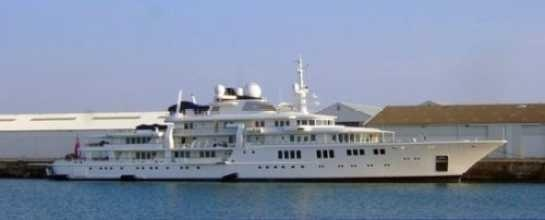yacht: (53, 87, 509, 180)
